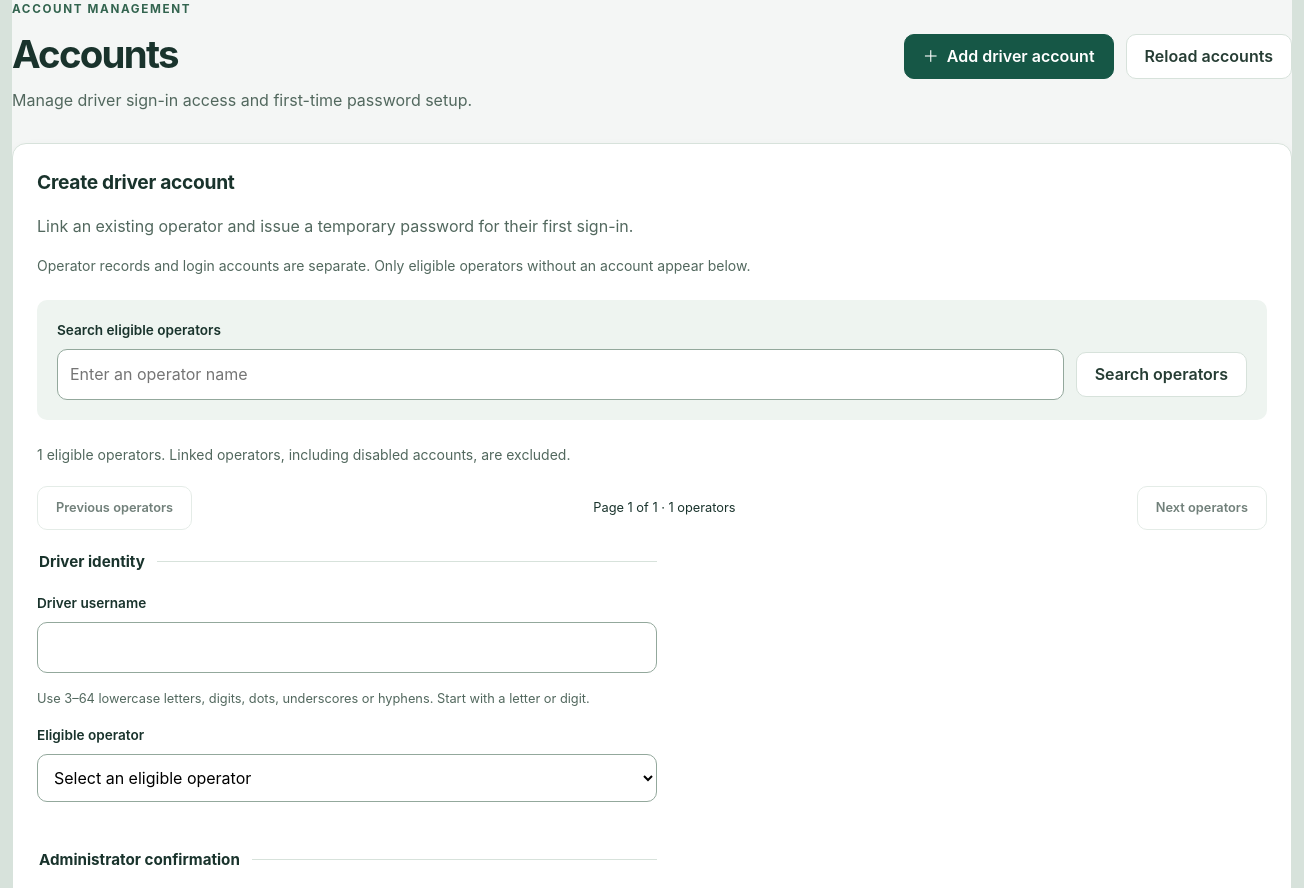
Test: React administrator accounts › bounds a hanging write and never retries it automatically
Expected: the dropdown labelled "Eligible operator" is enabled, [37, 754, 657, 802]
Type "test.driver" into the field labelled "Driver username". click: point(347, 648)
box: [37, 622, 657, 673]
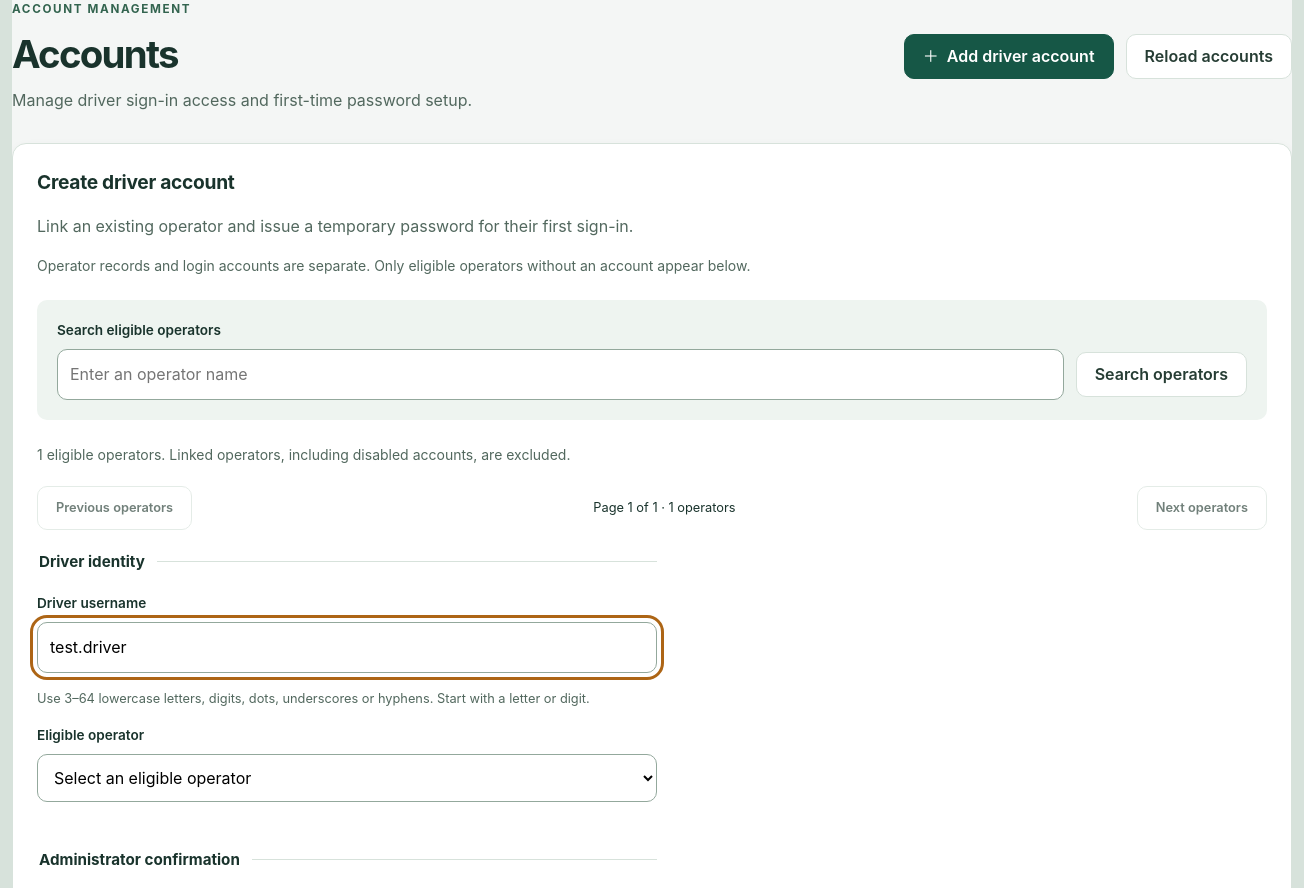
Select "<img src=x onerror=alert(1)> (#4)" in the dropdown labelled "Eligible operator". click: point(347, 778)
box: [37, 754, 657, 802]
(page scrolled)
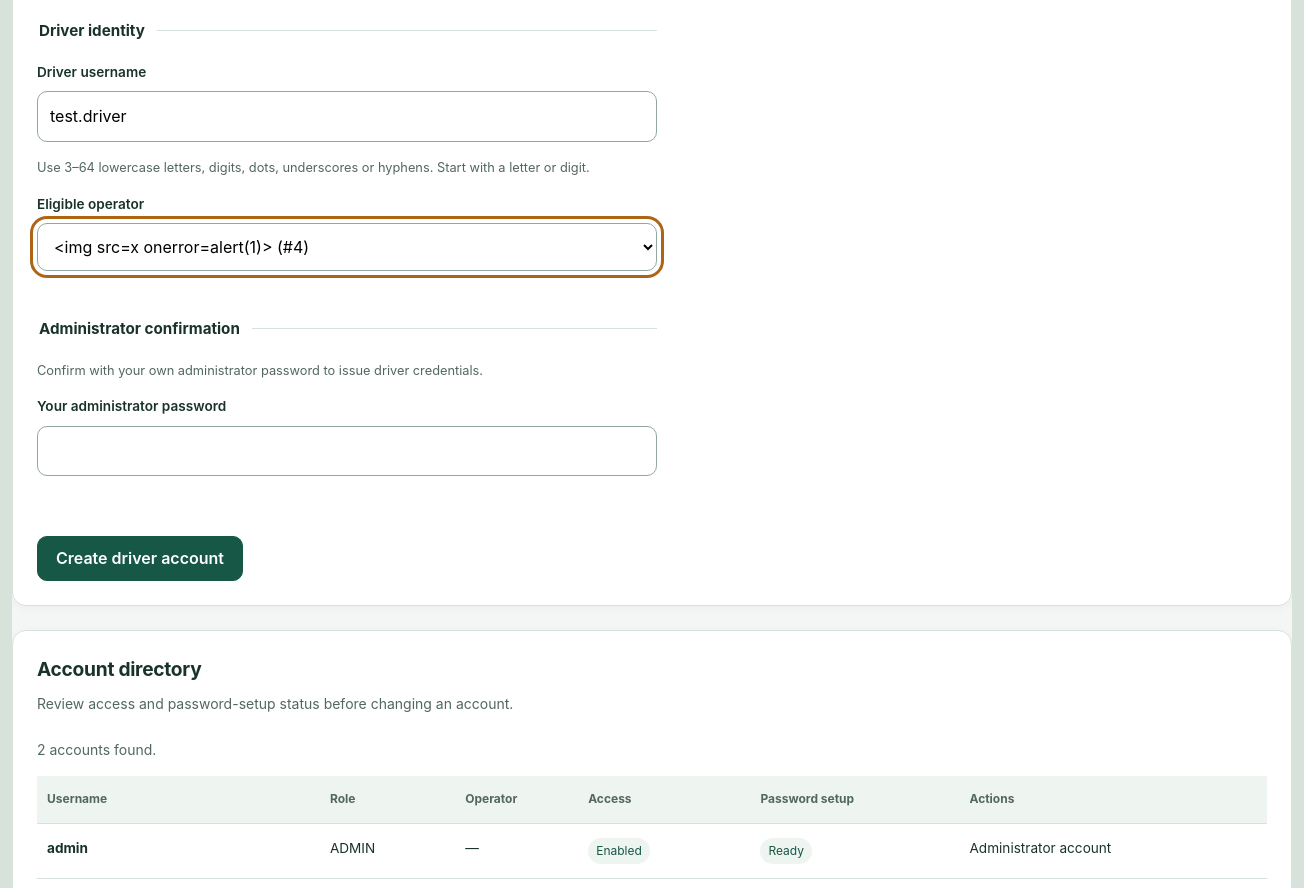
Type "test password" into the password field labelled "Your administrator password". click: point(347, 451)
box: [37, 426, 657, 476]
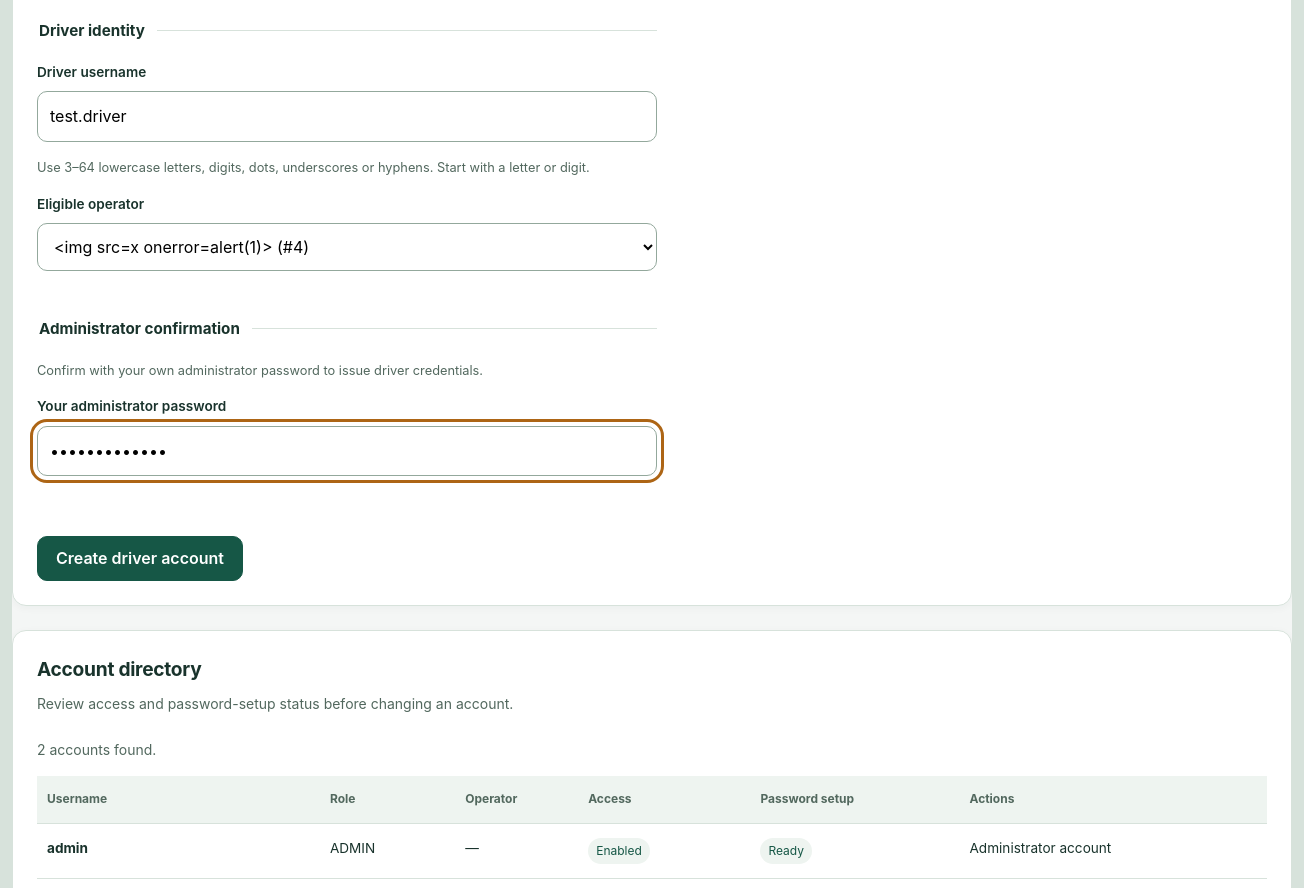
Click the button "Create driver account". click: point(140, 559)
box: [37, 536, 243, 581]
Wait 15000 ms
(page scrolled)
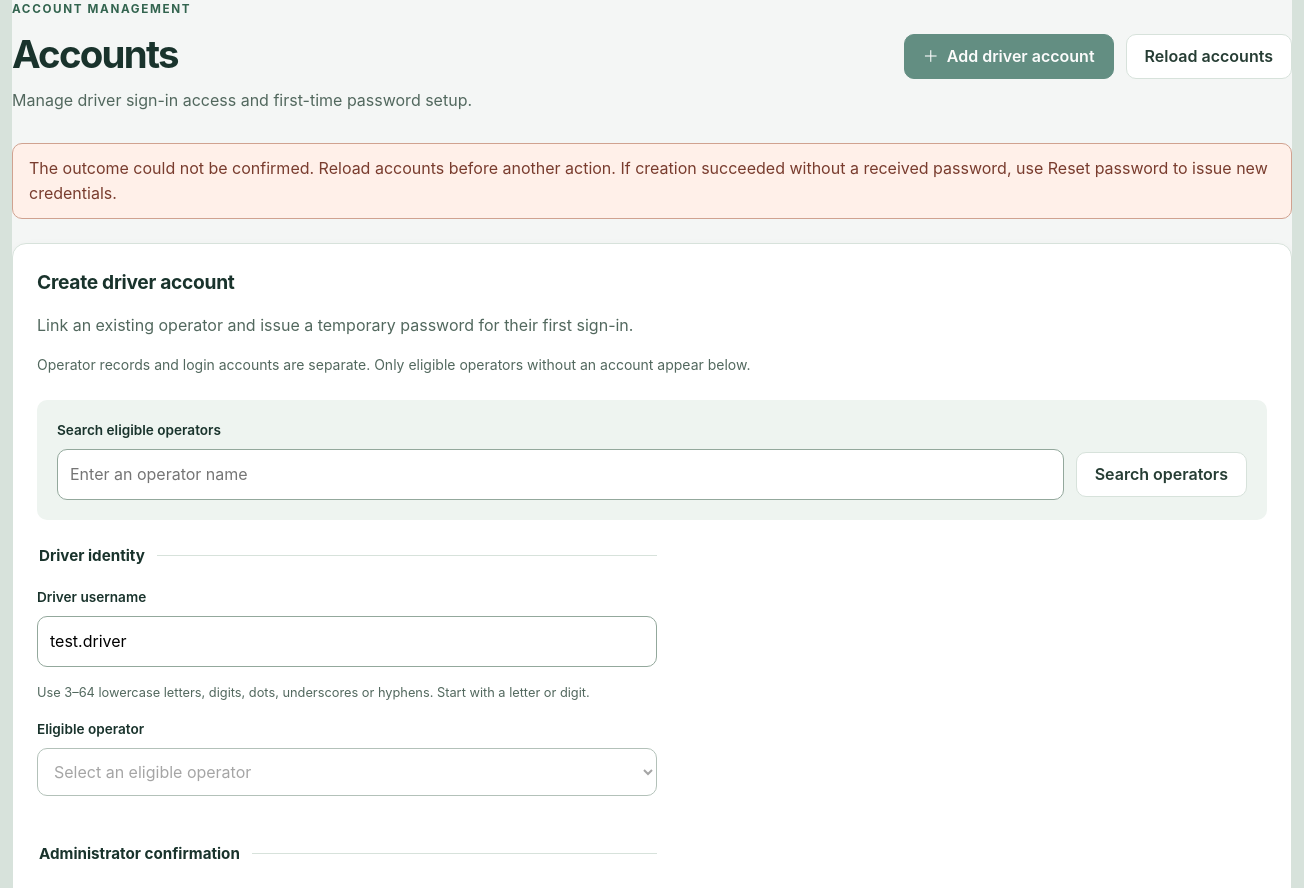
Expected: the message shows "outcome could not be confirmed", [29, 158, 1268, 203]
